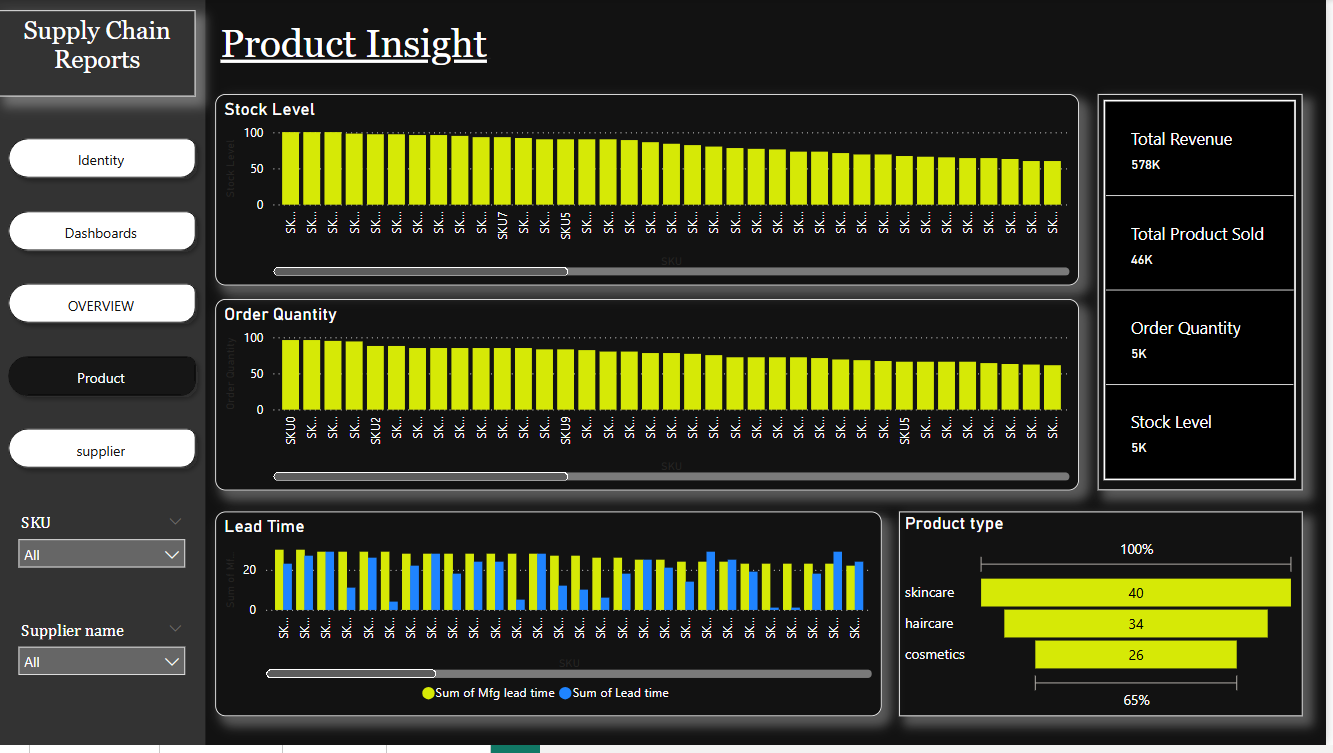

What the dashboard file says about the page in this screenshot:
{"tool":"powerbi","page":{"name":"Product ","canvas":[1280,720],"ordinal":3},"visuals":[{"type":"clusteredColumnChart","title":"Stock Level ","fields":{"Y":["_Measure.Stock Level"],"Category":["supply_chain_data.SKU"]},"box":[208.7,91.7,833.7,184.6],"z":0},{"type":"clusteredColumnChart","title":"Order Quantity ","fields":{"Category":["supply_chain_data.SKU"],"Y":["_Measure.Order Quantity"]},"box":[208.7,289.5,833.7,184.6],"z":1000},{"type":"shape","box":[0,0,199.3,720.2],"z":2000},{"type":"clusteredColumnChart","title":"Lead Time","fields":{"Category":["supply_chain_data.SKU"],"Y":["Sum(supply_chain_data.Mfg lead time)","Sum(supply_chain_data.Lead time)"]},"box":[208.7,494.6,643,197.9],"z":3000},{"type":"cardVisual","fields":{"Data":["_Measure.Total Revenue","_Measure.Total Product Sold","_Measure.Order Quantity","_Measure.Stock Level"]},"box":[1060.5,91.7,197.9,382.4],"z":4000},{"type":"funnel","title":"Product type","fields":{"Y":["CountNonNull(supply_chain_data.SKU)"],"Category":["supply_chain_data.Product type"]},"box":[868.6,494.6,389.7,197.9],"z":5000},{"type":"textbox","box":[208.7,16.9,281.1,60.3],"z":6000},{"type":"pageNavigator","box":[0,126,199.3,336.3],"z":7000},{"type":"slicer","fields":{"Values":["supply_chain_data.SKU"]},"box":[8.6,491.6,181,78.3],"z":8000},{"type":"slicer","fields":{"Values":["supply_chain_data.Supplier name"]},"box":[8.6,594.3,181,78.3],"z":9000},{"type":"textbox","box":[0,11,189.5,83.2],"z":10000}]}

Visuals, with their boxes on the page's 1280x720 design canvas (x1, y1, x2, y2). These are canvas units, not pixel positions in the 1333x753 screenshot, which may show the page scaled, cropped or inside an application window:
"Stock Level " clusteredColumnChart: x1=209 y1=92 x2=1042 y2=276
"Order Quantity " clusteredColumnChart: x1=209 y1=290 x2=1042 y2=474
shape: x1=0 y1=0 x2=199 y2=720
"Lead Time" clusteredColumnChart: x1=209 y1=495 x2=852 y2=692
cardVisual - _Measure.Total Revenue x _Measure.Total Product Sold: x1=1060 y1=92 x2=1258 y2=474
"Product type" funnel: x1=869 y1=495 x2=1258 y2=692
textbox: x1=209 y1=17 x2=490 y2=77
pageNavigator: x1=0 y1=126 x2=199 y2=462
slicer - supply_chain_data.SKU: x1=9 y1=492 x2=190 y2=570
slicer - supply_chain_data.Supplier name: x1=9 y1=594 x2=190 y2=673
textbox: x1=0 y1=11 x2=190 y2=94
